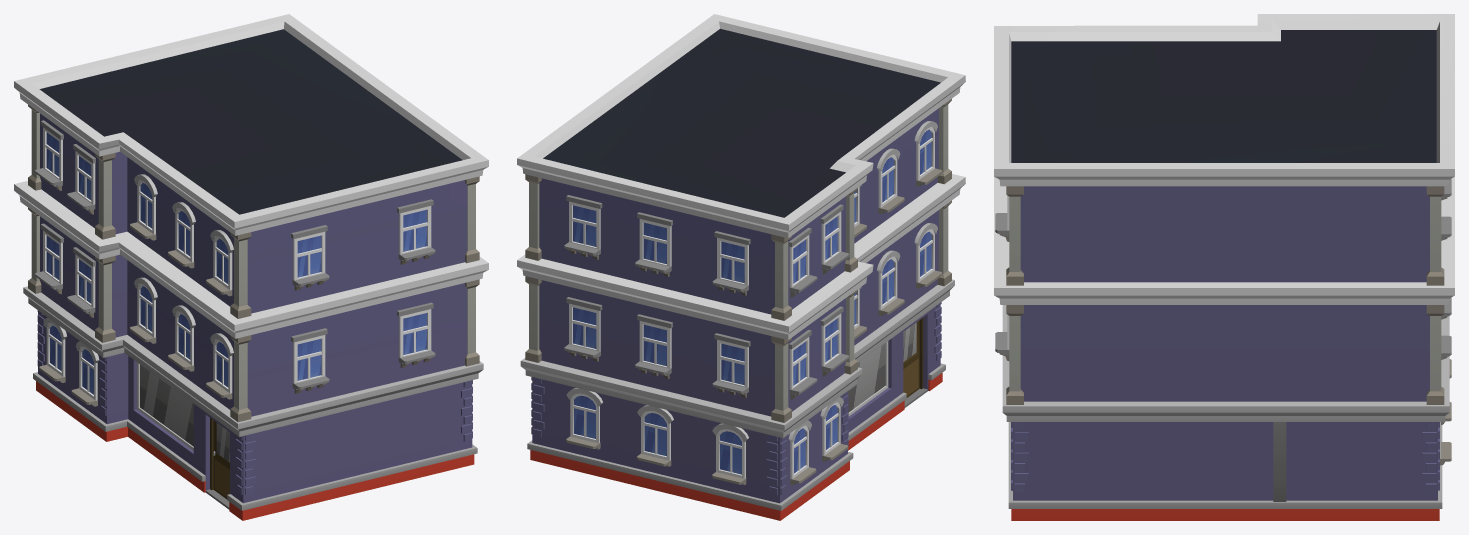
File: Building_1_3_K.fbx
3 renders of one model, left to right at view 1: azimuth 30°, elevation 25°; view 2: azimuth 150°, elevation 25°; view 3: azimuth 270°, elevation 25°, orthographic. The views are drawn at different scales.
Visible parts, largest first — view 1: Building_1_3_K; view 2: Building_1_3_K; view 3: Building_1_3_K.
Part boxes in pixels (bbox=[...]): Building_1_3_K: bbox=[14, 14, 488, 520]; Building_1_3_K: bbox=[517, 14, 965, 520]; Building_1_3_K: bbox=[994, 14, 1454, 520].
Bounding box in the file's own units: 841 × 900 × 1057.
